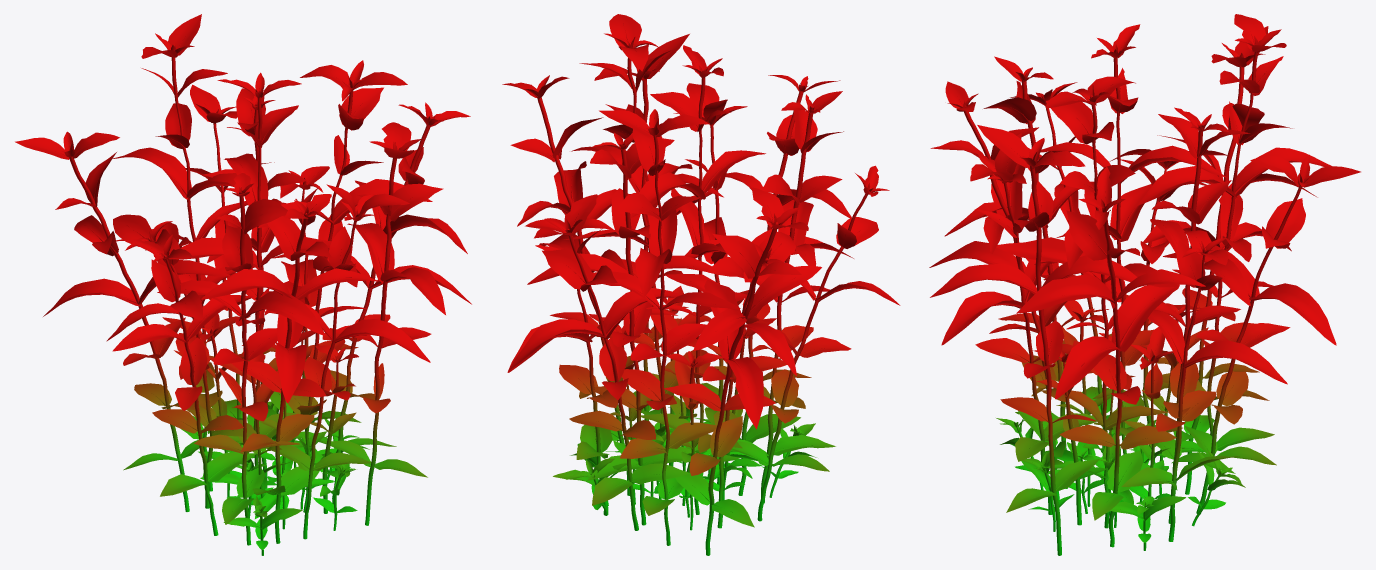
The model's file is Var2_LOD0.fbx.
The picture shows the model from 3 angles, left to right: view 1: azimuth 30°, elevation 25°; view 2: azimuth 150°, elevation 25°; view 3: azimuth 270°, elevation 25°; orthographic projection. The views are drawn at different scales.
Visible parts, largest first — view 1: _lf86_Var2_LOD0; view 2: _lf86_Var2_LOD0; view 3: _lf86_Var2_LOD0.
Part boxes in pixels (box(x1,y1,x2,y2)): _lf86_Var2_LOD0: box(15, 14, 471, 555); _lf86_Var2_LOD0: box(502, 14, 900, 555); _lf86_Var2_LOD0: box(929, 14, 1360, 555).
Bounding box in the file's own units: 48.02 × 54.68 × 44.93.
